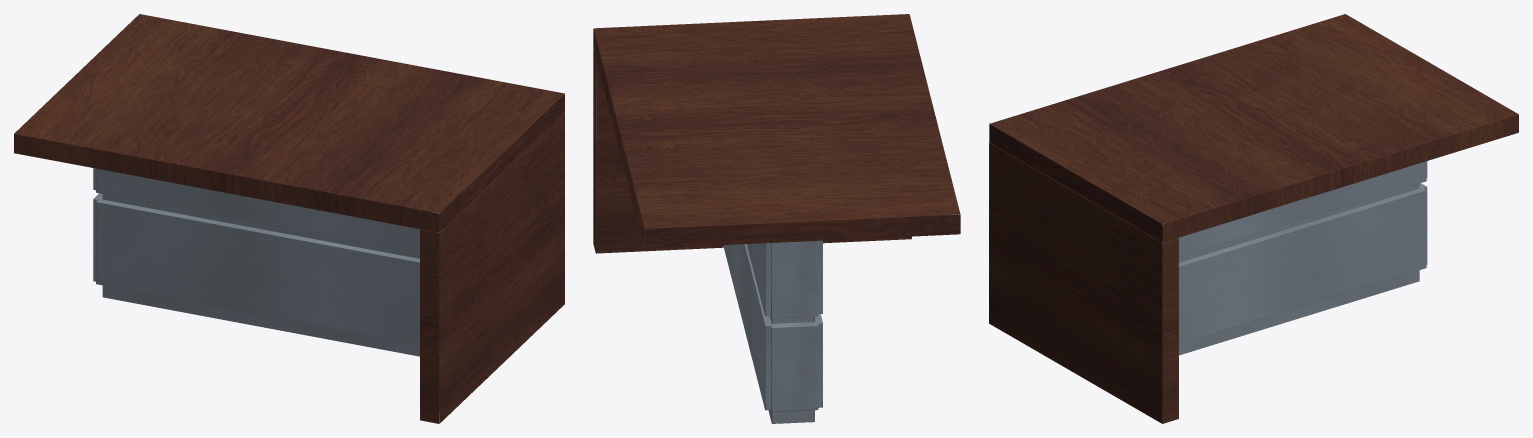
Rendered from nerosehpa3d.glb.
3 renders of one model, left to right at view 1: azimuth 30°, elevation 25°; view 2: azimuth 150°, elevation 25°; view 3: azimuth 270°, elevation 25°, orthographic. The views are drawn at different scales.
Parts seen in each view (by area): view 1: ASSET_Joined; view 2: ASSET_Joined; view 3: ASSET_Joined.
Part boxes in pixels (left/top/right/bottom): ASSET_Joined: left=14, top=14, right=564, bottom=423; ASSET_Joined: left=593, top=14, right=960, bottom=423; ASSET_Joined: left=989, top=14, right=1518, bottom=423.
Size of the model in its own units: 1.01 by 0.4512 by 1.08.
Materials: 1 (1 with a texture image).
